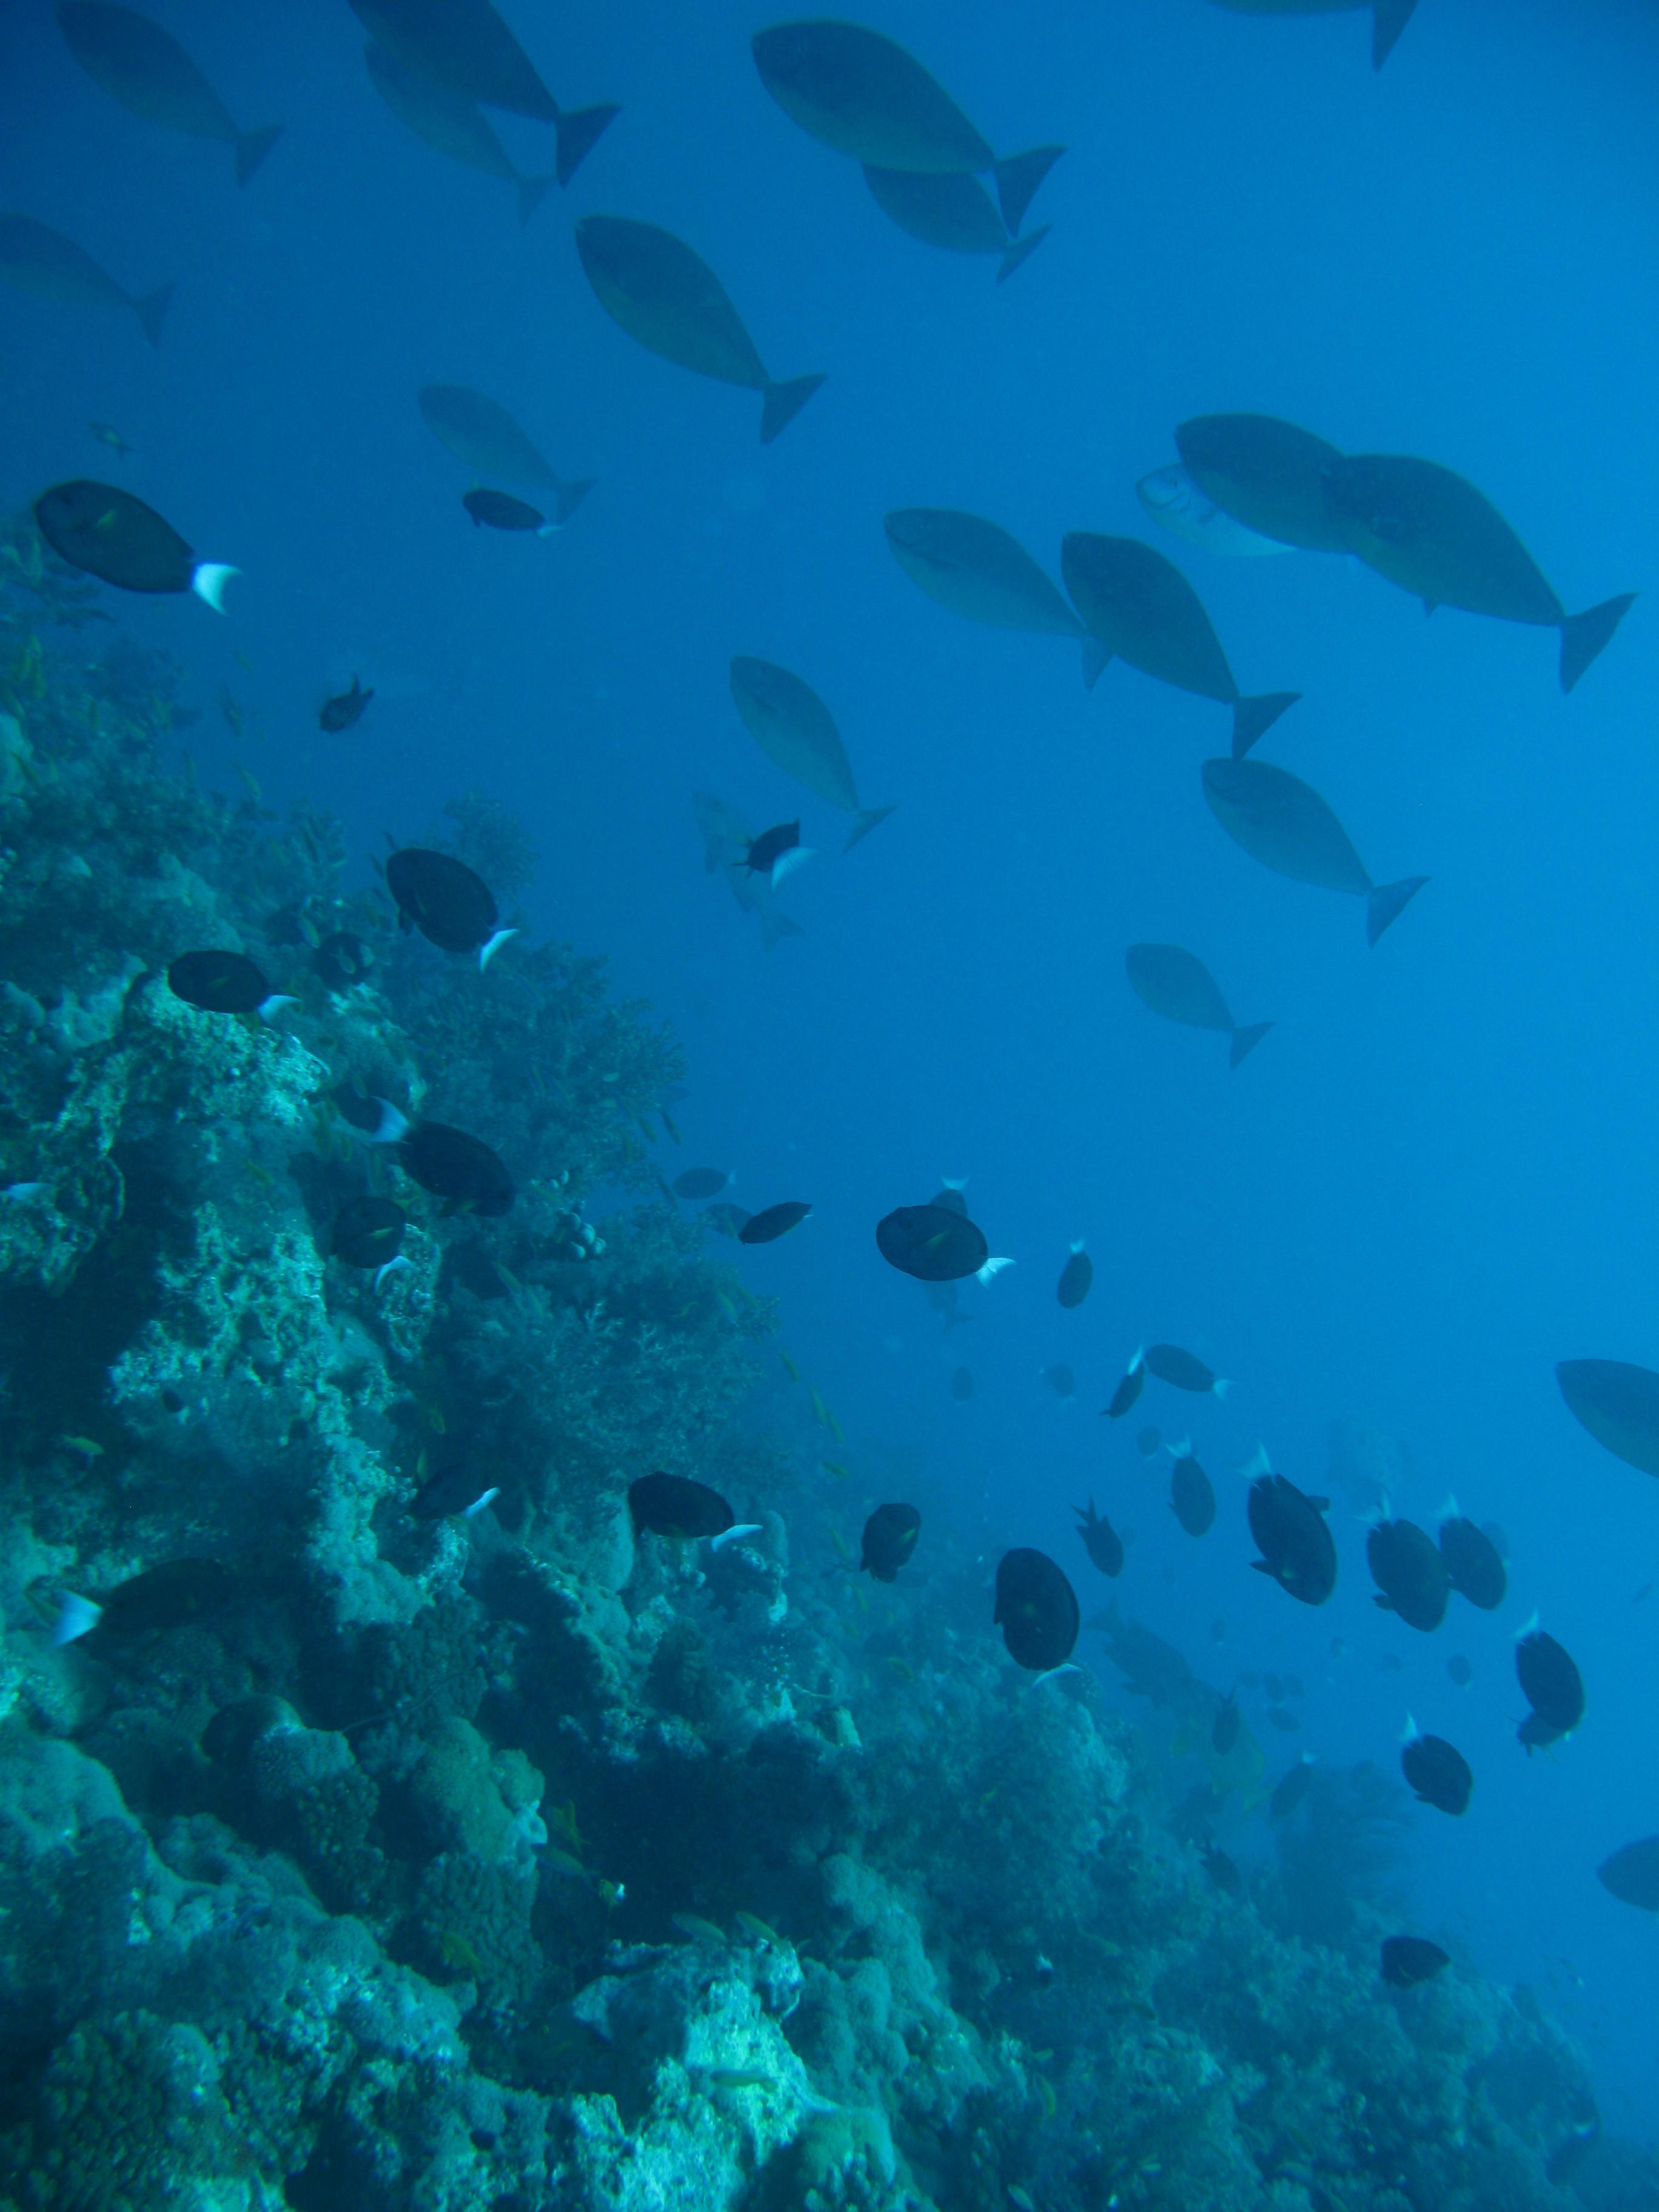Naso hexacanthus: (1307, 418, 1640, 719), (728, 0, 1066, 270), (561, 176, 842, 474), (1049, 507, 1319, 761), (873, 475, 1121, 744), (1176, 728, 1448, 970), (716, 610, 911, 880), (52, 0, 300, 199), (397, 334, 603, 554), (1114, 921, 1270, 1089)
